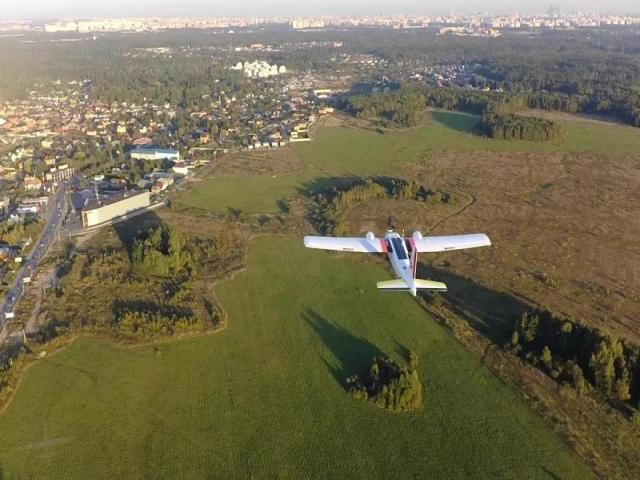hedef: (290, 222, 508, 312)
